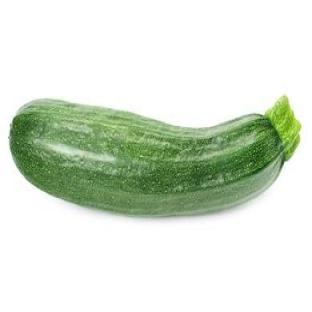Zucchini: (10, 96, 299, 215)
